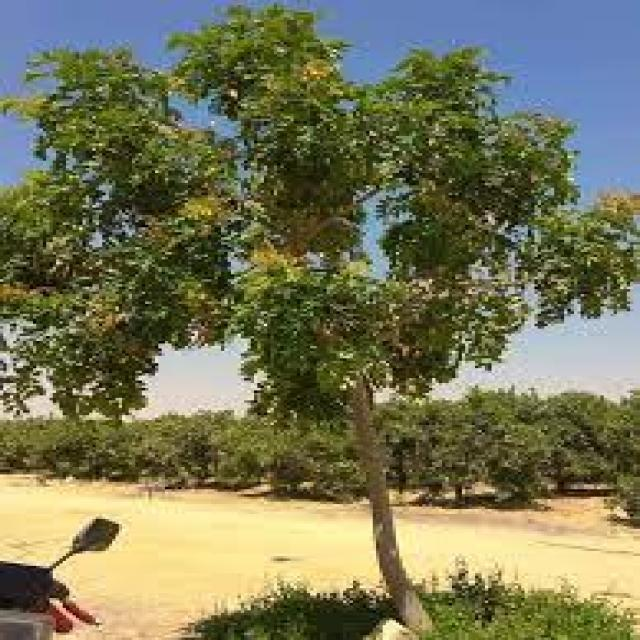tree: (3, 5, 640, 630), (406, 422, 482, 502), (531, 415, 597, 499), (597, 393, 640, 516), (484, 420, 544, 507), (168, 425, 224, 489), (258, 444, 314, 500)
